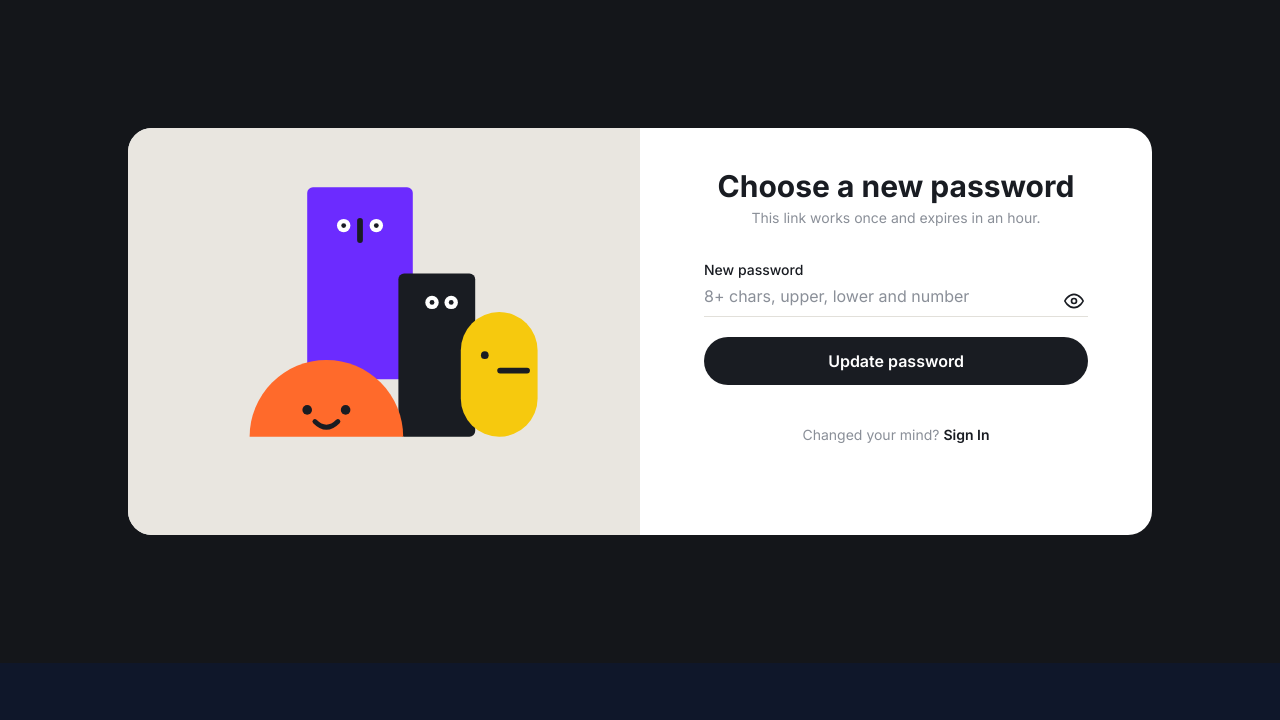
Test: ResetPasswordPage submission › blocks submission with an empty password and makes no request
Click the button "Update password" at coordinates (896, 361), box [704,337,1088,385]
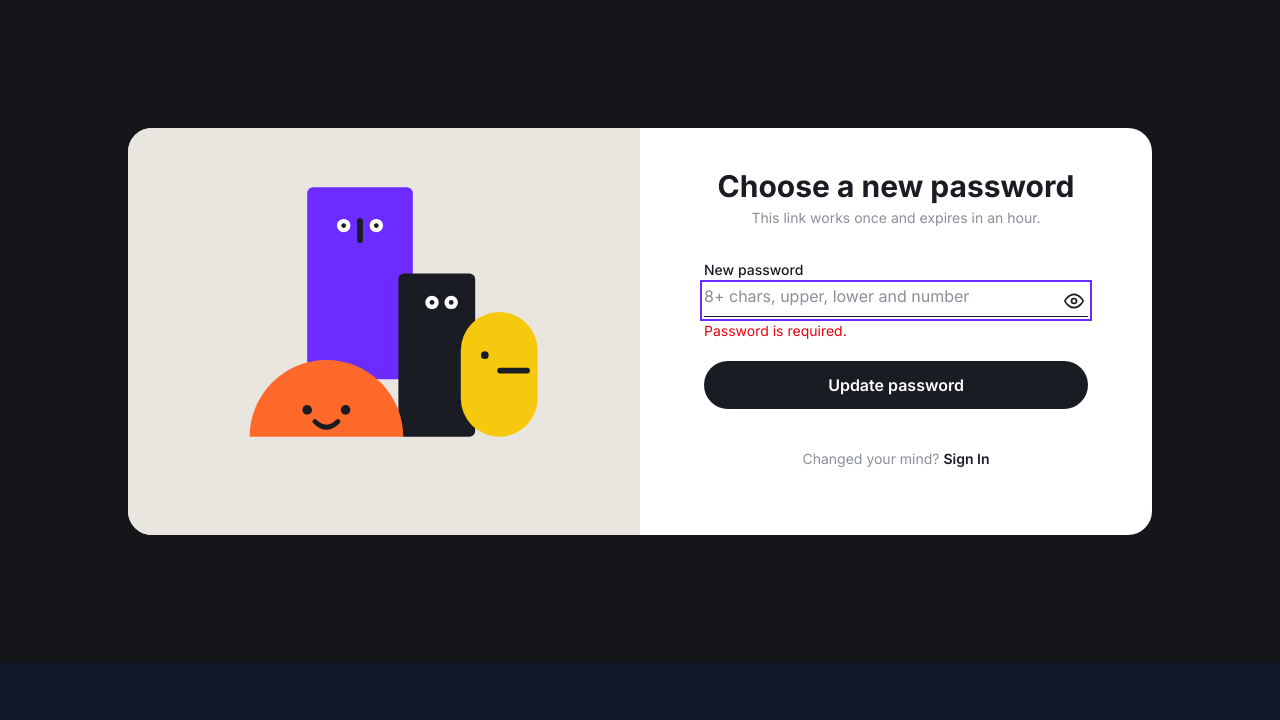
Check: the text "Password is required." is shown, box [704,322,847,339]
